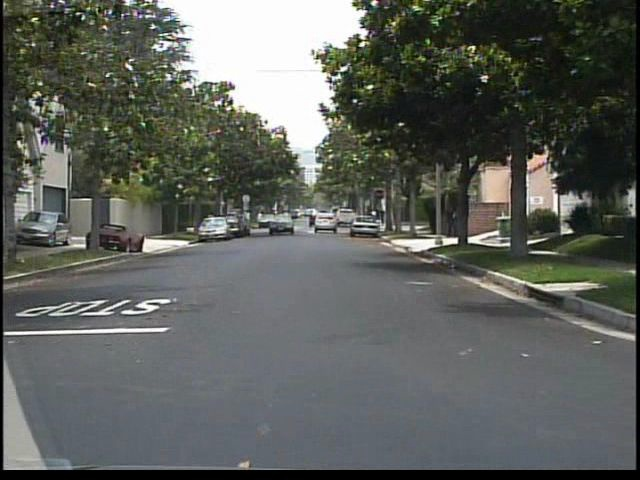person: (442, 199, 459, 239), (205, 208, 219, 233)
